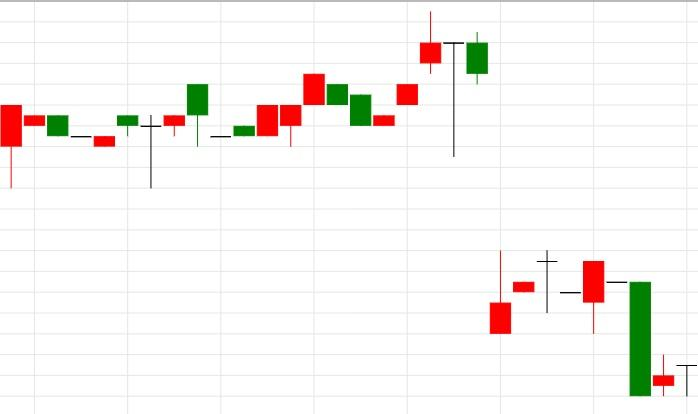bullish_engulfing_rise: (187, 83, 279, 147)
evening_star_fall: (349, 11, 488, 156)
three_white_soldiers_rise: (303, 11, 442, 126)
